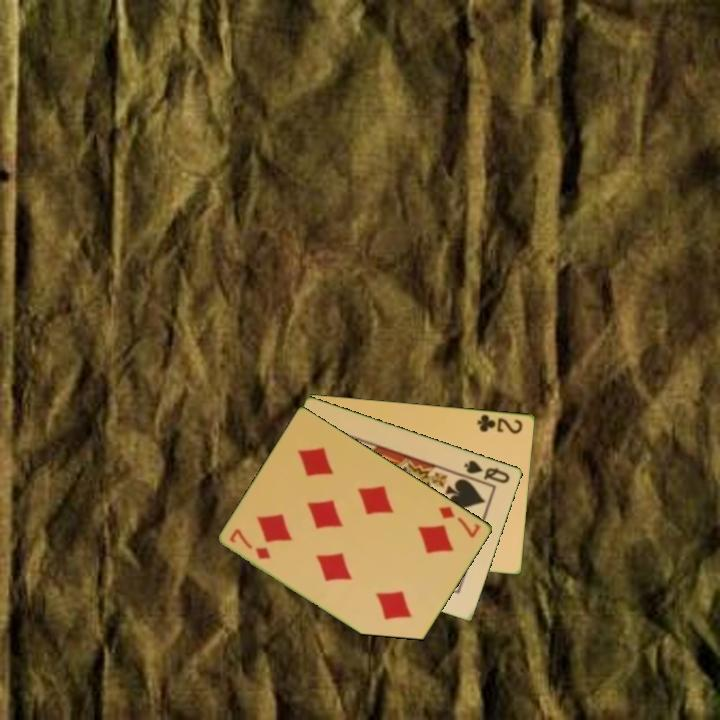2c: (474, 410, 525, 436)
7d: (436, 502, 484, 541), (226, 525, 274, 562)
Qs: (461, 456, 513, 486)
